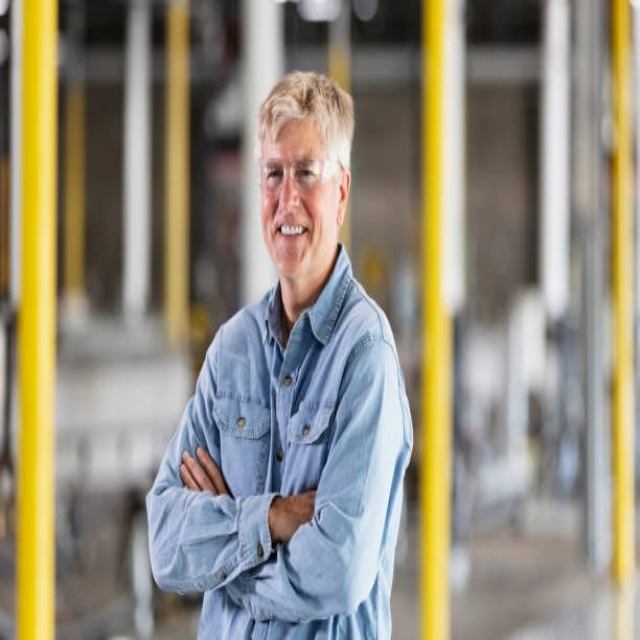Gafas: (257, 156, 341, 191)
Sin_guantes: (180, 446, 229, 498)
Sin_mascara: (267, 216, 310, 266)
